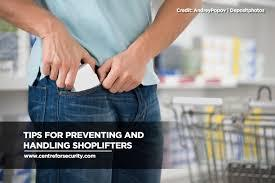shoplifting: (19, 16, 170, 146)
